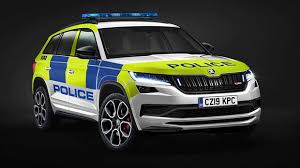special: (30, 11, 263, 149)
